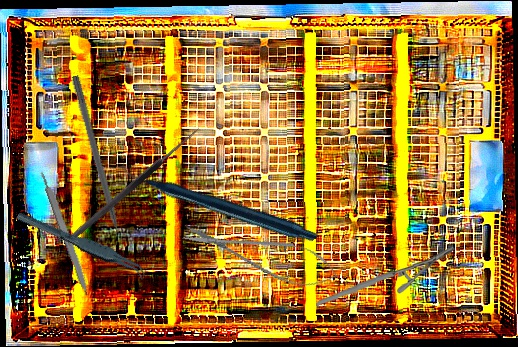Handpiece: (118, 94, 321, 308)
Hook Surgical: (60, 118, 203, 245)
Micro Scissor: (178, 212, 344, 297)
Needle Holder: (313, 244, 458, 307)
Pusher: (69, 74, 127, 256)
Scalpel Handle: (38, 168, 93, 297)
Tissue Forceps: (15, 197, 149, 292)
